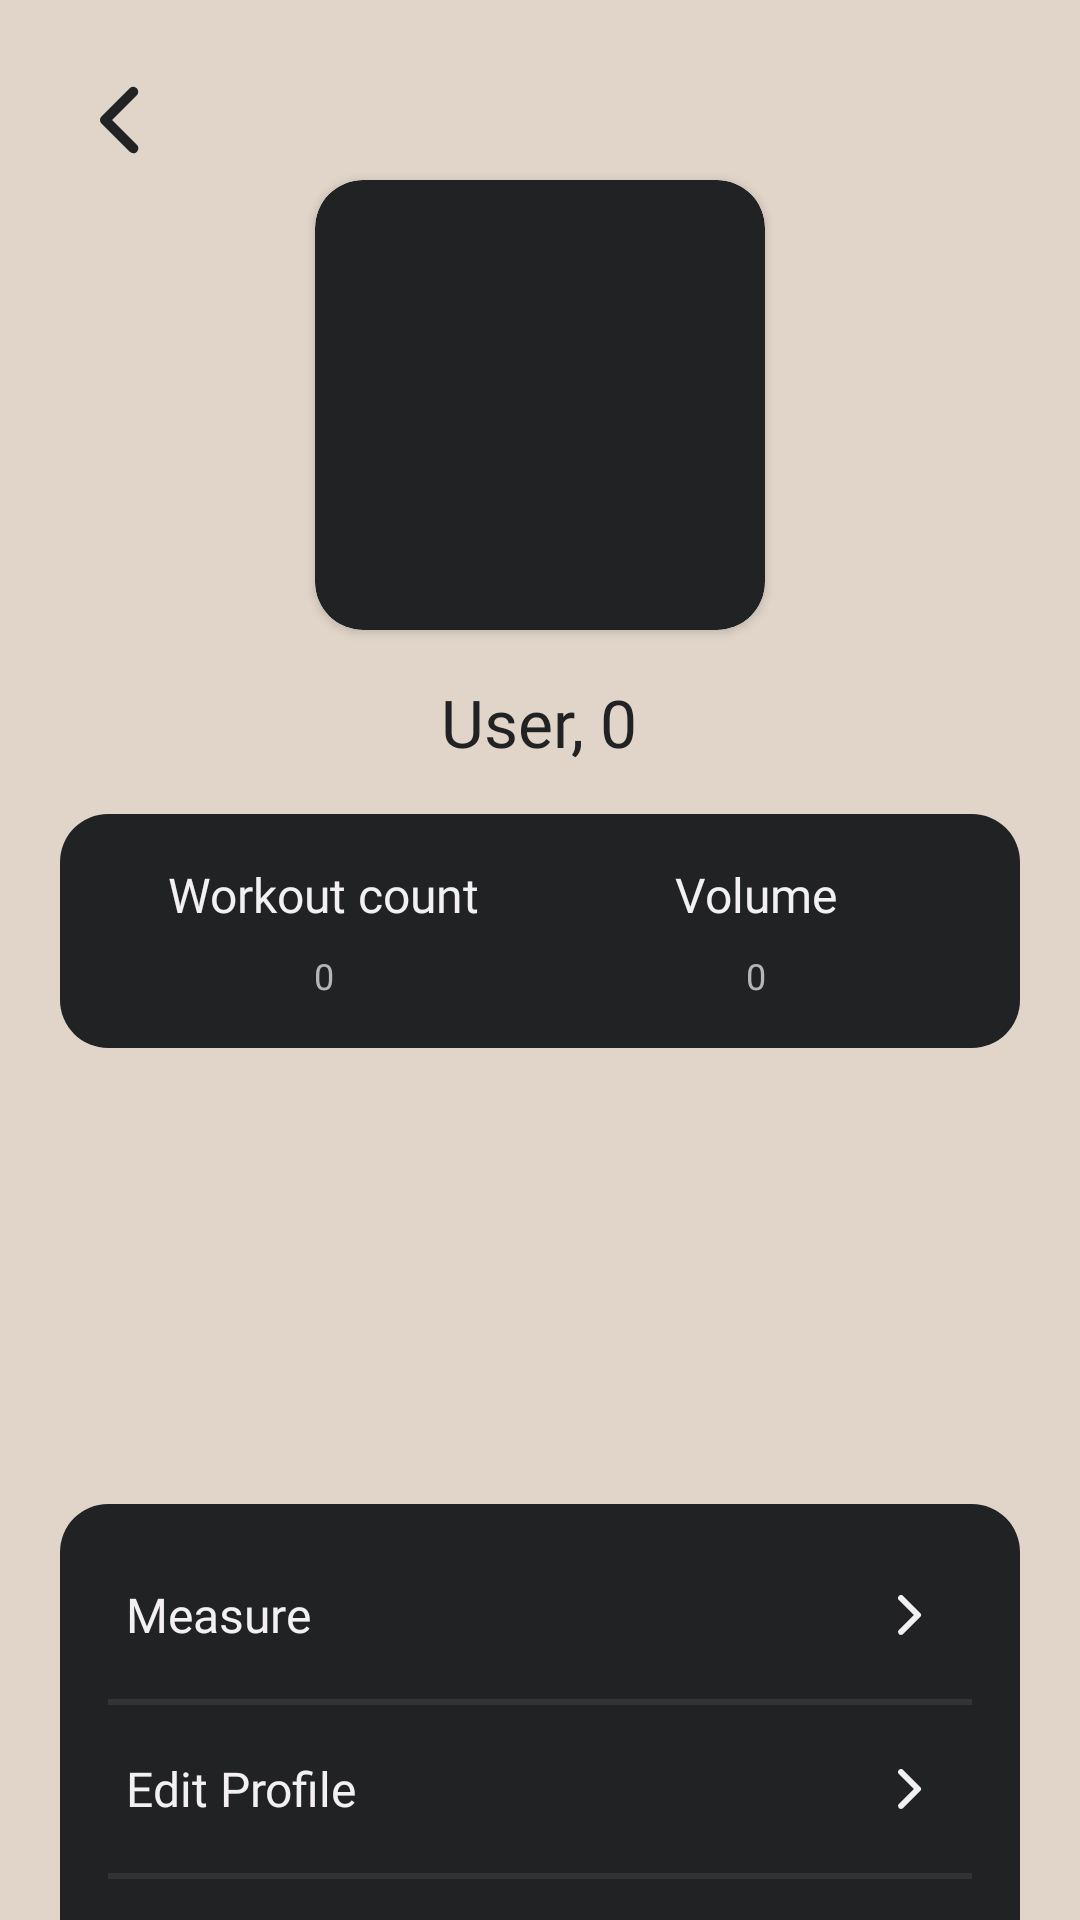

Named icons in this screenshot (1080w x 1920h) and their bounding boxes, bbox(x1, y1, x2, y2):
arrow left: bbox(100, 86, 139, 154)
